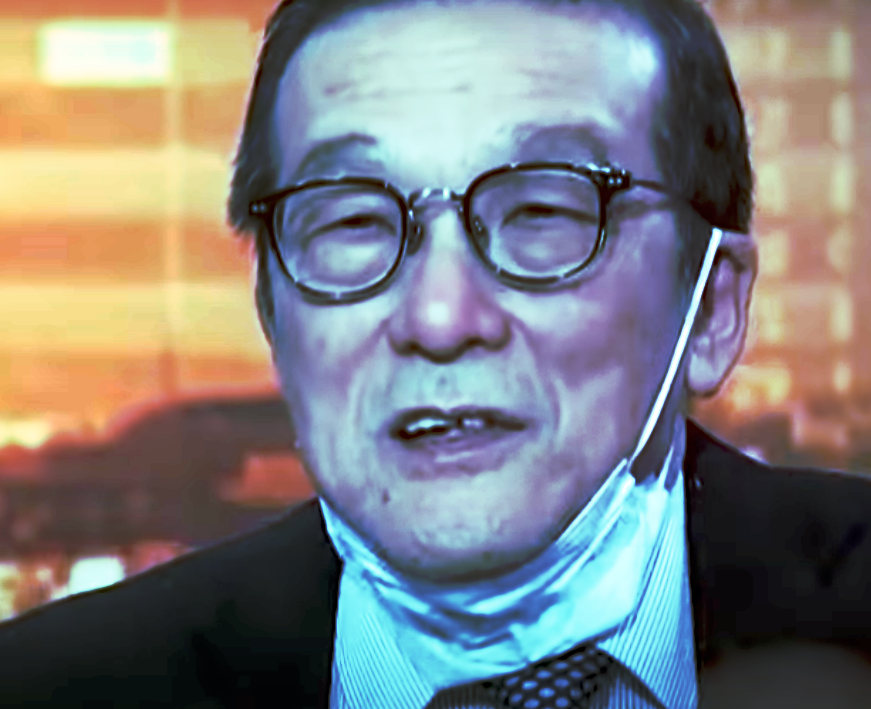mask_weared_incorrect: (232, 6, 766, 695)
